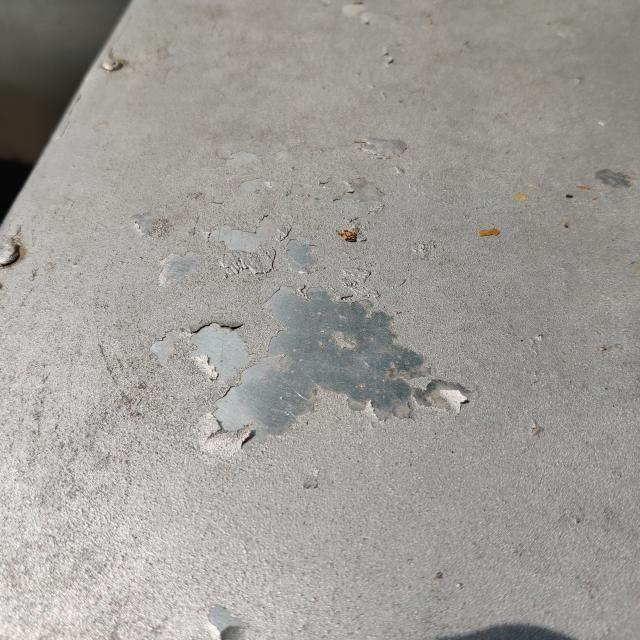paint-off: (143, 179, 502, 484)
